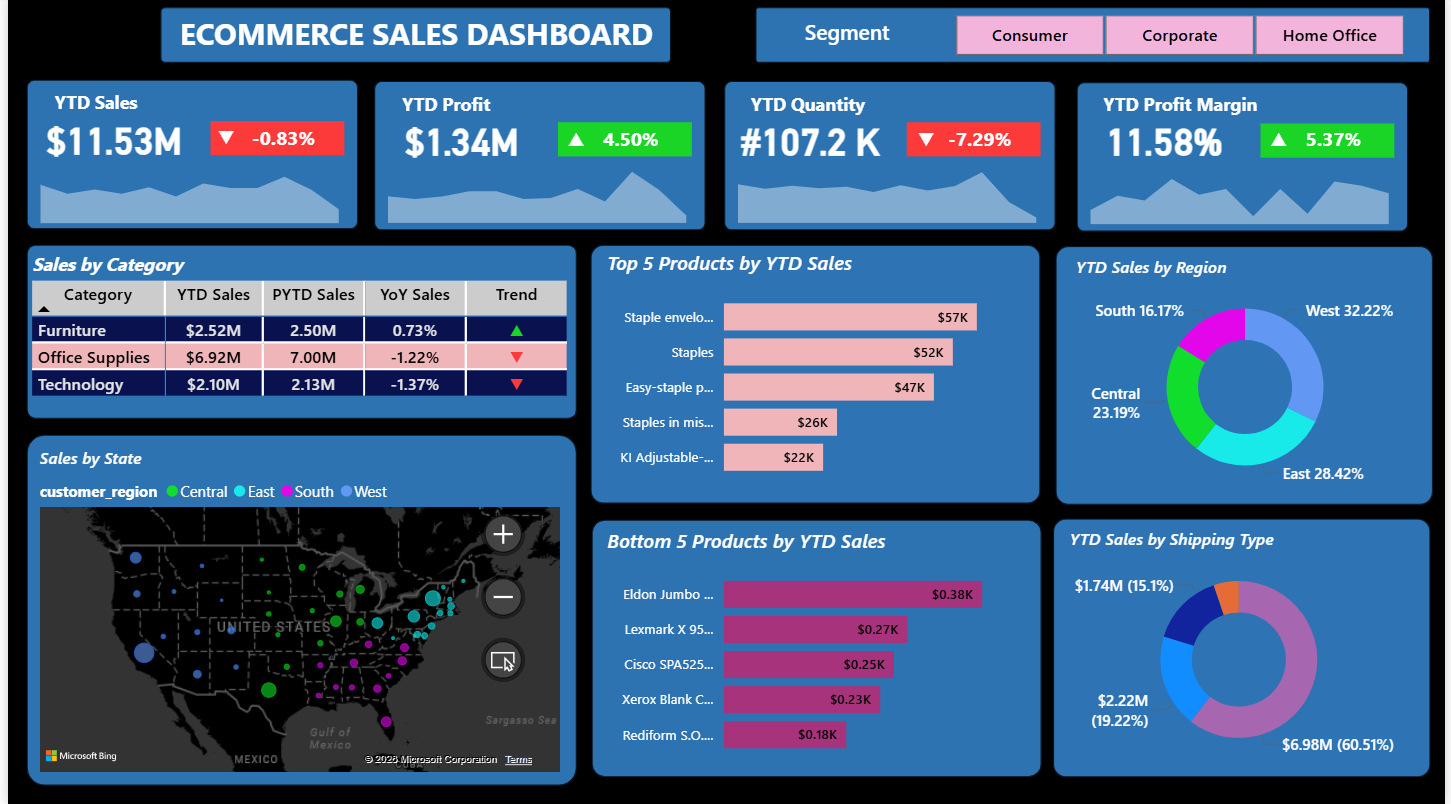

What the dashboard file says about the page in this screenshot:
{"tool":"powerbi","page":{"name":"Page 1","canvas":[1280,720],"ordinal":0},"visuals":[{"type":"shape","box":[136.3,9.7,454.8,49.5],"z":0},{"type":"textbox","box":[148.4,9.7,442.8,49.5],"z":1000},{"type":"shape","box":[16.2,74.7,295,133.1],"z":2000},{"type":"card","fields":{"Values":["ecommerce_data.YTD Sales"]},"box":[27.2,96.7,135.8,60.4],"z":3000},{"type":"shape","box":[16.2,221,490,155],"z":4000},{"type":"shape","box":[518.4,222,400.7,230.5],"z":5000},{"type":"areaChart","fields":{"Category":["Calendar.Month"],"Y":["Sum(ecommerce_data.sales_per_order)"]},"box":[14.8,140.6,295,67.2],"z":6000},{"type":"shape","box":[180.9,111.8,119.4,30.2],"z":7000},{"type":"card","fields":{"Values":["ecommerce_data.YoY Sales"]},"box":[209.7,114.5,72.7,27.4],"z":8000},{"type":"card","fields":{"Values":["ecommerce_data.Sales Icon"]},"box":[180.9,113.1,28.8,27.4],"z":9000},{"type":"textbox","box":[36.2,78.4,112.2,33.8],"z":10000},{"type":"shape","box":[326.6,75.8,295,133.1],"z":11000},{"type":"card","fields":{"Values":["ecommerce_data.YTD Profit"]},"box":[336.2,97.7,135.8,60.4],"z":12000},{"type":"areaChart","fields":{"Category":["Calendar.Month"],"Y":["Sum(ecommerce_data.profit_per_order)"]},"box":[324.3,141.5,295,65.9],"z":13000},{"type":"shape","box":[489.9,112.8,119.4,30.2],"z":14000},{"type":"card","fields":{"Values":["ecommerce_data.YoY Profit"]},"box":[518.7,115.6,72.7,27.4],"z":15000},{"type":"card","fields":{"Values":["ecommerce_data.Profit Icon"]},"box":[490.3,115.5,32.9,27.4],"z":16000},{"type":"textbox","box":[345.8,79.9,94.7,32.9],"z":17000},{"type":"shape","box":[637.4,75.9,295,133.1],"z":18000},{"type":"card","fields":{"Values":["ecommerce_data.YTD Concatenated Qty"]},"box":[647,97.9,135.8,60.4],"z":19000},{"type":"areaChart","fields":{"Category":["Calendar.Month"],"Y":["Sum(ecommerce_data.order_quantity)"]},"box":[635.1,141.7,295,65.9],"z":20000},{"type":"shape","box":[800.7,113,119.4,30.2],"z":21000},{"type":"card","fields":{"Values":["ecommerce_data.YoY Qty"]},"box":[829.5,115.7,72.7,27.4],"z":22000},{"type":"card","fields":{"Values":["ecommerce_data.Qty Icon"]},"box":[801.1,115.6,32.9,27.4],"z":23000},{"type":"textbox","box":[656.4,79.8,113.9,32.9],"z":24000},{"type":"shape","box":[951.9,76.3,295,133.1],"z":25000},{"type":"card","fields":{"Values":["ecommerce_data.YTD Profit Margin"]},"box":[961.5,98.2,135.8,60.4],"z":26000},{"type":"areaChart","fields":{"Category":["Calendar.Month"],"Y":["ecommerce_data.Profit Margin"]},"box":[949.6,142,295,65.9],"z":27000},{"type":"shape","box":[1115.2,113.3,119.4,30.2],"z":28000},{"type":"card","fields":{"Values":["ecommerce_data.YoY Profit Margin"]},"box":[1144,116.1,72.7,27.4],"z":29000},{"type":"card","fields":{"Values":["ecommerce_data.Profit Margin Icon"]},"box":[1115.6,116,32.9,27.4],"z":30000},{"type":"textbox","box":[970.5,80.6,157.8,32.9],"z":31000},{"type":"pivotTable","title":"Sales by Category","fields":{"Rows":["ecommerce_data.category_name"],"Values":["ecommerce_data.YTD Sales","ecommerce_data.PYTD Sales","ecommerce_data.YoY Sales","ecommerce_data.Sales Icon"]},"box":[16.2,227.1,487.4,139.9],"z":32000},{"type":"shape","box":[16.9,390.9,489.8,312.5],"z":33000},{"type":"map","title":"Sales by State","fields":{"Y":["us_state_long_lat_codes.latitude"],"X":["us_state_long_lat_codes.longitude"],"Size":["ecommerce_data.YTD Sales"],"Series":["ecommerce_data.customer_region"]},"box":[22.9,400.5,472.9,295.6],"z":34000},{"type":"shape","box":[520.1,466.6,400.7,229.2],"z":35000},{"type":"barChart","title":"Top 5 Products by YTD Sales","fields":{"Category":["ecommerce_data.product_name"],"Y":["ecommerce_data.YTD Sales"]},"box":[528.3,226.4,384.2,215.4],"z":36000},{"type":"barChart","title":"Bottom 5 Products by YTD Sales","fields":{"Category":["ecommerce_data.product_name"],"Y":["ecommerce_data.YTD Sales"]},"box":[528.3,473.4,384.2,215.4],"z":37000},{"type":"shape","box":[933.1,222.3,336.2,230.5],"z":38000},{"type":"shape","box":[930.4,465.2,336.2,230.5],"z":39000},{"type":"donutChart","title":"YTD Sales by Region","fields":{"Category":["ecommerce_data.customer_region"],"Y":["ecommerce_data.YTD Sales"]},"box":[945.8,230.4,311.3,216],"z":40000},{"type":"donutChart","title":"YTD Sales by Shipping Type","fields":{"Category":["ecommerce_data.shipping_type"],"Y":["ecommerce_data.YTD Sales"]},"box":[941,472.9,311.3,216],"z":41000},{"type":"shape","box":[666,9.7,600.8,49.5],"z":42000},{"type":"slicer","fields":{"Values":["ecommerce_data.customer_segment"]},"box":[818,9.7,448.8,49.5],"z":43000},{"type":"textbox","box":[684.1,14.5,125.5,41],"z":44000}]}

Visuals, with their boxes in screenshot pixels (x1, y1, x2, y2), scaled from the page's 1280x720 canvas onto the 1451x804 screenshot:
shape: l=155, t=11, r=670, b=66
textbox: l=168, t=11, r=670, b=66
shape: l=18, t=83, r=353, b=232
card - ecommerce_data.YTD Sales: l=31, t=108, r=185, b=175
shape: l=18, t=247, r=574, b=420
shape: l=588, t=248, r=1042, b=505
areaChart - Calendar.Month x Sum(ecommerce_data.sales_per_order): l=17, t=157, r=351, b=232
shape: l=205, t=125, r=340, b=159
card - ecommerce_data.YoY Sales: l=238, t=128, r=320, b=158
card - ecommerce_data.Sales Icon: l=205, t=126, r=238, b=157
textbox: l=41, t=88, r=168, b=125
shape: l=370, t=85, r=705, b=233
card - ecommerce_data.YTD Profit: l=381, t=109, r=535, b=177
areaChart - Calendar.Month x Sum(ecommerce_data.profit_per_order): l=368, t=158, r=702, b=232
shape: l=555, t=126, r=691, b=160
card - ecommerce_data.YoY Profit: l=588, t=129, r=670, b=160
card - ecommerce_data.Profit Icon: l=556, t=129, r=593, b=160
textbox: l=392, t=89, r=499, b=126
shape: l=723, t=85, r=1057, b=233
card - ecommerce_data.YTD Concatenated Qty: l=733, t=109, r=887, b=177
areaChart - Calendar.Month x Sum(ecommerce_data.order_quantity): l=720, t=158, r=1054, b=232
shape: l=908, t=126, r=1043, b=160
card - ecommerce_data.YoY Qty: l=940, t=129, r=1023, b=160
card - ecommerce_data.Qty Icon: l=908, t=129, r=945, b=160
textbox: l=744, t=89, r=873, b=126
shape: l=1079, t=85, r=1413, b=234
card - ecommerce_data.YTD Profit Margin: l=1090, t=110, r=1244, b=177
areaChart - Calendar.Month x ecommerce_data.Profit Margin: l=1076, t=159, r=1411, b=232
shape: l=1264, t=127, r=1400, b=160
card - ecommerce_data.YoY Profit Margin: l=1297, t=130, r=1379, b=160
card - ecommerce_data.Profit Margin Icon: l=1265, t=130, r=1302, b=160
textbox: l=1100, t=90, r=1279, b=127
"Sales by Category" pivotTable: l=18, t=254, r=571, b=410
shape: l=19, t=437, r=574, b=785
"Sales by State" map: l=26, t=447, r=562, b=777
shape: l=590, t=521, r=1044, b=777
"Top 5 Products by YTD Sales" barChart: l=599, t=253, r=1034, b=493
"Bottom 5 Products by YTD Sales" barChart: l=599, t=529, r=1034, b=769
shape: l=1058, t=248, r=1439, b=506
shape: l=1055, t=519, r=1436, b=777
"YTD Sales by Region" donutChart: l=1072, t=257, r=1425, b=498
"YTD Sales by Shipping Type" donutChart: l=1067, t=528, r=1420, b=769
shape: l=755, t=11, r=1436, b=66
slicer - ecommerce_data.customer_segment: l=927, t=11, r=1436, b=66
textbox: l=775, t=16, r=918, b=62
